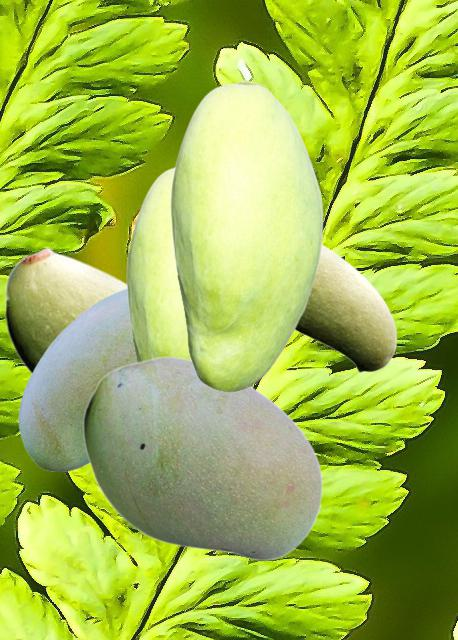green_mango: (82, 355, 322, 560), (170, 80, 322, 391), (18, 287, 135, 470), (4, 246, 125, 375), (295, 244, 396, 372), (126, 166, 188, 361)
